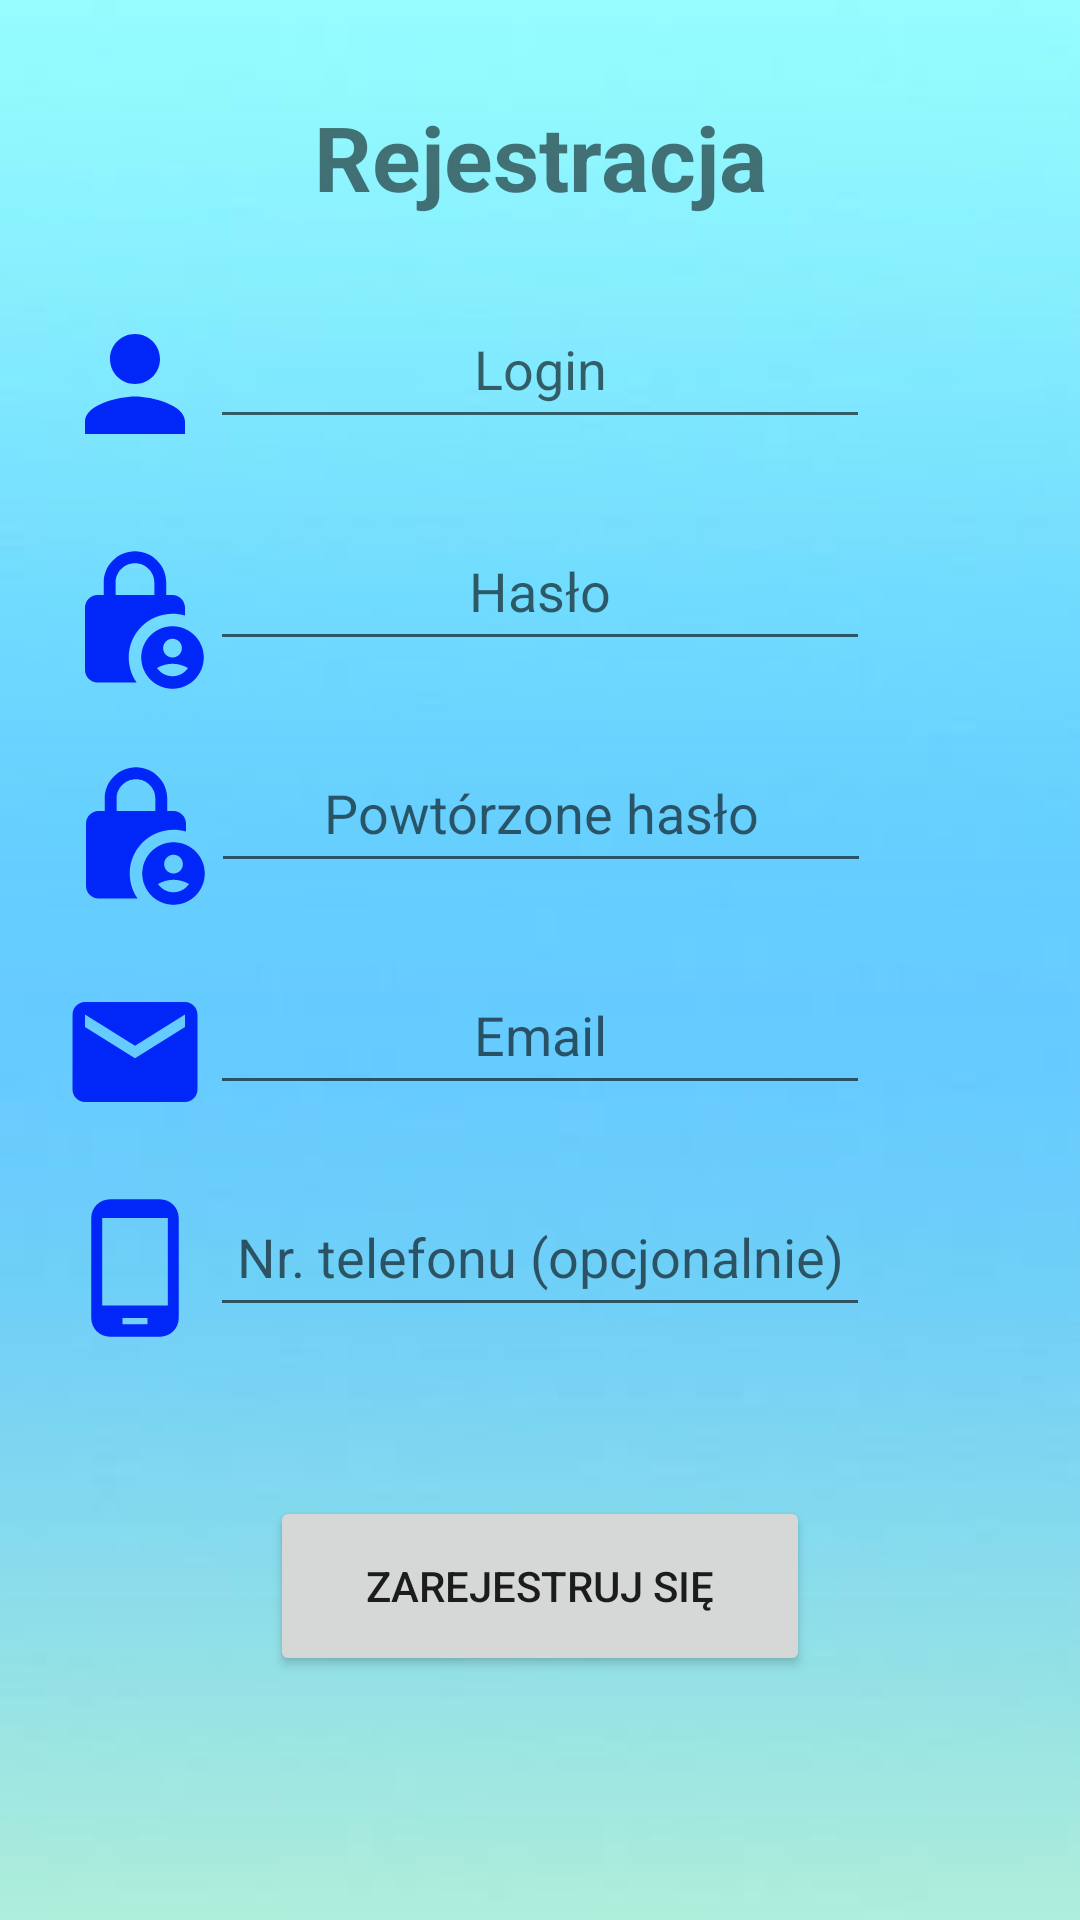

Where icons sit on this 1080 x 1920 app screen, as detection(x1, y1, x2, y2):
lock person: detection(85, 551, 204, 689), detection(86, 767, 205, 905)
person: detection(85, 334, 185, 434)
phone android: detection(91, 1199, 179, 1337)
